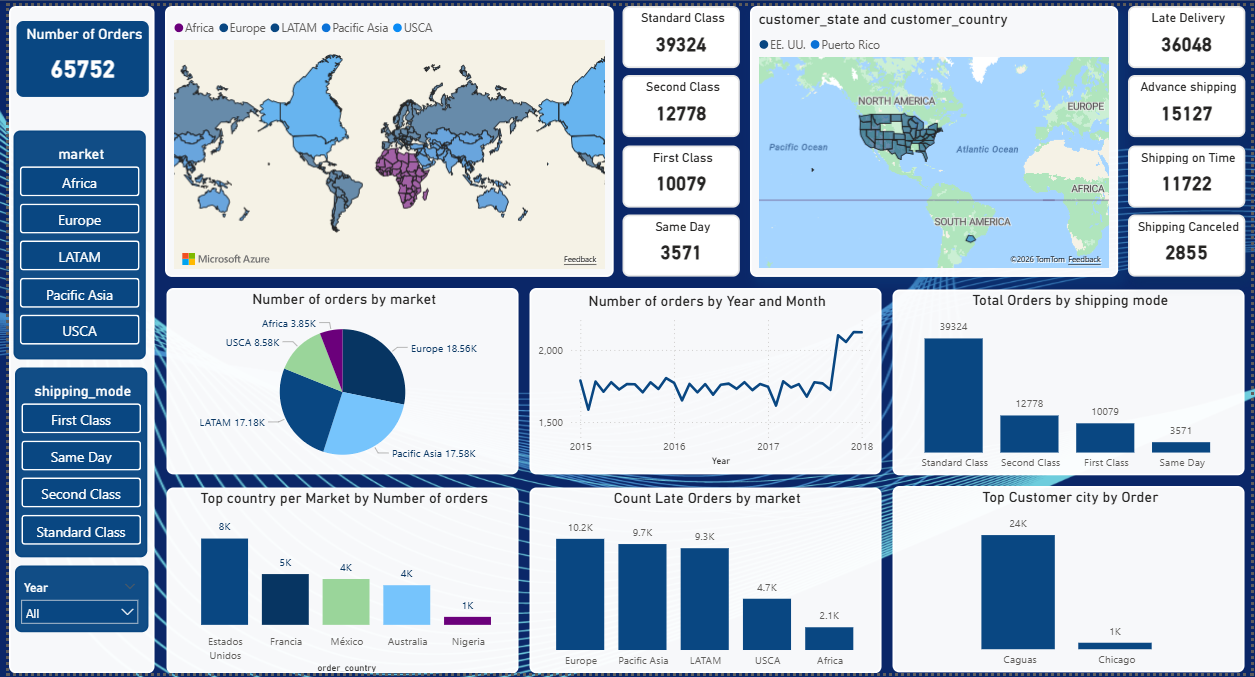

The dashboard page shown, as its layout file describes it:
{"tool":"powerbi","page":{"name":"Shipping","canvas":[1440,773],"ordinal":1},"visuals":[{"type":"shape","box":[0,0,168.8,773.1],"z":0,"group":"g3"},{"type":"azureMap","fields":{"Category":["orders.order_country","orders.order_state","orders.order_city"],"Series":["orders.market"]},"box":[180,0,520,314],"z":0},{"type":"advancedSlicerVisual","fields":{"Values":["shipping.shipping_mode"]},"box":[6.5,419.3,153.1,219.8],"z":1000,"group":"g3"},{"type":"columnChart","fields":{"Y":["Dax_Measure.Late Orders Count"],"Category":["orders.market"]},"box":[603.1,557.3,408.1,215],"z":1000},{"type":"card","title":"Number of Orders","fields":{"Values":["CountNonNull(shipping.order_id)"]},"box":[8.2,17.7,153.5,88],"z":2000,"group":"g3"},{"type":"pieChart","title":"Number of orders by market","fields":{"Category":["orders.market"],"Y":["CountNonNull(orders.order_id)"]},"box":[181.9,327.6,408,216],"z":2000},{"type":"azureMap","fields":{"Category":["customers.customer_state","customers.customer_city"],"Series":["customers.customer_country"]},"box":[858.4,0,426.5,314],"z":3000},{"type":"slicer","fields":{"Values":["Dim_Date.Year"]},"box":[7.6,648.8,154.4,77.2],"z":3000,"group":"g3"},{"type":"card","title":"Late Delivery","fields":{"Values":["Dax_Measure.Number of Late delivery"]},"box":[1296.4,0,135.9,72],"z":4000,"group":"g2"},{"type":"clusteredColumnChart","title":"Total Orders by shipping mode","fields":{"Category":["shipping.shipping_mode"],"Y":["CountNonNull(shipping.order_id)"]},"box":[1023.9,328.2,408.2,215.6],"z":4000},{"type":"card","title":"Standard Class","fields":{"Values":["Dax_Measure.Standard Class"]},"box":[711.2,0,135.9,72],"z":6000,"group":"g1"},{"type":"columnChart","title":"Top Customer city by Order","fields":{"Category":["TopCustomerCityPerOrder.customer_city"],"Y":["Sum(TopCustomerCityPerOrder.TotalOrders)"]},"box":[1024.3,557.2,408.1,215.8],"z":6000},{"type":"lineChart","title":"Number of orders by Year and Month","fields":{"Y":["Count(shipping.order_id)"],"Category":["Dim_Date.Date.Variation.Date Hierarchy.Year","Dim_Date.Date.Variation.Date Hierarchy.Month"]},"box":[603.1,327.6,408,216],"z":7000},{"type":"group","id":"g1","title":"Group 2","box":[711.2,0,135.9,313.9],"z":8000},{"type":"card","title":"Advance shipping","fields":{"Values":["Dax_Measure.Advane shipping"]},"box":[1296.4,80.6,135.9,72],"z":8000,"group":"g2"},{"type":"group","id":"g2","title":"Group 3","box":[1296.1,0,136.2,313.9],"z":9000},{"type":"card","title":"Shipping on Time","fields":{"Values":["Dax_Measure.Shipping on time"]},"box":[1296.4,161.2,135.9,72],"z":9000,"group":"g2"},{"type":"card","title":"Shipping Canceled","fields":{"Values":["Dax_Measure.Shipping canceled"]},"box":[1296.1,241.9,135.9,72],"z":10000,"group":"g2"},{"type":"columnChart","title":"Top country per Market by Number of orders","fields":{"Category":["TopOrder&TopSalesPerMarket.order_country"],"Y":["Sum(TopCountryPerMarket.TotalOrders)"]},"box":[181.8,557.3,408.1,215.8],"z":11000},{"type":"advancedSlicerVisual","fields":{"Values":["orders.market"]},"box":[5.2,143.9,153.1,265.6],"z":12500,"group":"g3"},{"type":"group","id":"g3","title":"Group 1","box":[0,0,168.8,773.1],"z":12501},{"type":"card","title":"Second Class","fields":{"Values":["Dax_Measure.Second Class"]},"box":[711.2,80.6,135.9,72],"z":15000,"group":"g1"},{"type":"card","title":"First Class","fields":{"Values":["Dax_Measure.First Class"]},"box":[711.2,161.2,135.9,72],"z":16000,"group":"g1"},{"type":"card","title":"Same Day","fields":{"Values":["Dax_Measure.Same Day"]},"box":[711.2,241.9,135.9,72],"z":17000,"group":"g1"}]}

Visuals, with their boxes in screenshot pixels (x1, y1, x2, y2), scaled from the page's 1440x773 canvas onto the 1255x677 screenshot:
shape: x1=0, y1=0, x2=147, y2=676
azureMap - orders.order_country x orders.order_state: x1=157, y1=0, x2=610, y2=275
advancedSlicerVisual - shipping.shipping_mode: x1=6, y1=367, x2=139, y2=560
columnChart - Dax_Measure.Late Orders Count x orders.market: x1=526, y1=488, x2=881, y2=676
"Number of Orders" card: x1=7, y1=16, x2=141, y2=93
"Number of orders by market" pieChart: x1=159, y1=287, x2=514, y2=476
azureMap - customers.customer_state x customers.customer_city: x1=748, y1=0, x2=1120, y2=275
slicer - Dim_Date.Year: x1=7, y1=568, x2=141, y2=636
"Late Delivery" card: x1=1130, y1=0, x2=1248, y2=63
"Total Orders by shipping mode" clusteredColumnChart: x1=892, y1=287, x2=1248, y2=476
"Standard Class" card: x1=620, y1=0, x2=738, y2=63
"Top Customer city by Order" columnChart: x1=893, y1=488, x2=1248, y2=676
"Number of orders by Year and Month" lineChart: x1=526, y1=287, x2=881, y2=476
"Group 2" group: x1=620, y1=0, x2=738, y2=275
"Advance shipping" card: x1=1130, y1=71, x2=1248, y2=134
"Group 3" group: x1=1130, y1=0, x2=1248, y2=275
"Shipping on Time" card: x1=1130, y1=141, x2=1248, y2=204
"Shipping Canceled" card: x1=1130, y1=212, x2=1248, y2=275
"Top country per Market by Number of orders" columnChart: x1=158, y1=488, x2=514, y2=676
advancedSlicerVisual - orders.market: x1=5, y1=126, x2=138, y2=359
"Group 1" group: x1=0, y1=0, x2=147, y2=676
"Second Class" card: x1=620, y1=71, x2=738, y2=134
"First Class" card: x1=620, y1=141, x2=738, y2=204
"Same Day" card: x1=620, y1=212, x2=738, y2=275
